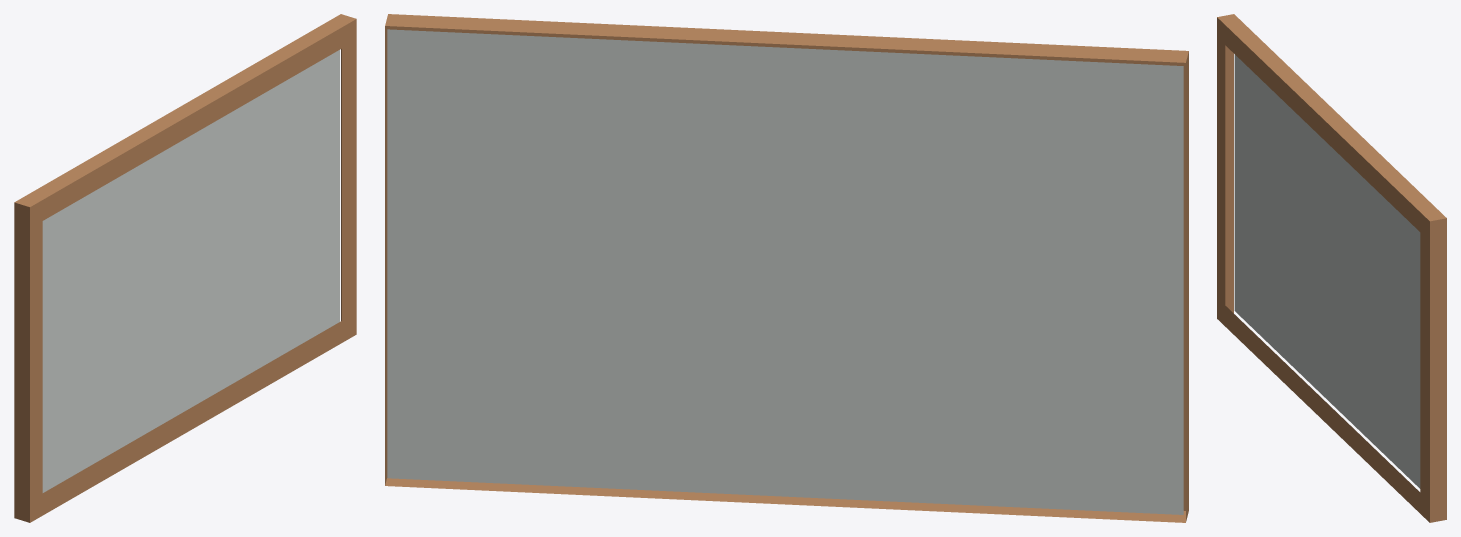
File: Bulletin_Board_small.fbx
The picture shows the model from 3 angles, left to right: view 1: azimuth 30°, elevation 25°; view 2: azimuth 150°, elevation 25°; view 3: azimuth 270°, elevation 25°; orthographic projection. The views are drawn at different scales.
Visible parts, largest first — view 1: Plane.015; view 2: Plane.015; view 3: Plane.015.
Part boxes in pixels (x1=…): Plane.015: x1=14, y1=14, x2=356, y2=522; Plane.015: x1=385, y1=14, x2=1188, y2=522; Plane.015: x1=1217, y1=14, x2=1446, y2=522.
Size of the model in its own units: 280 by 190 by 131.
